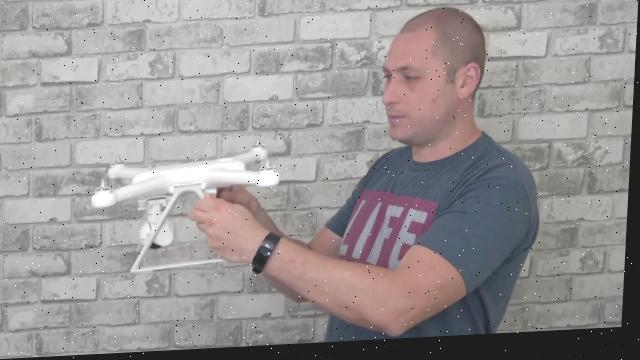drone: (85, 143, 311, 288)
